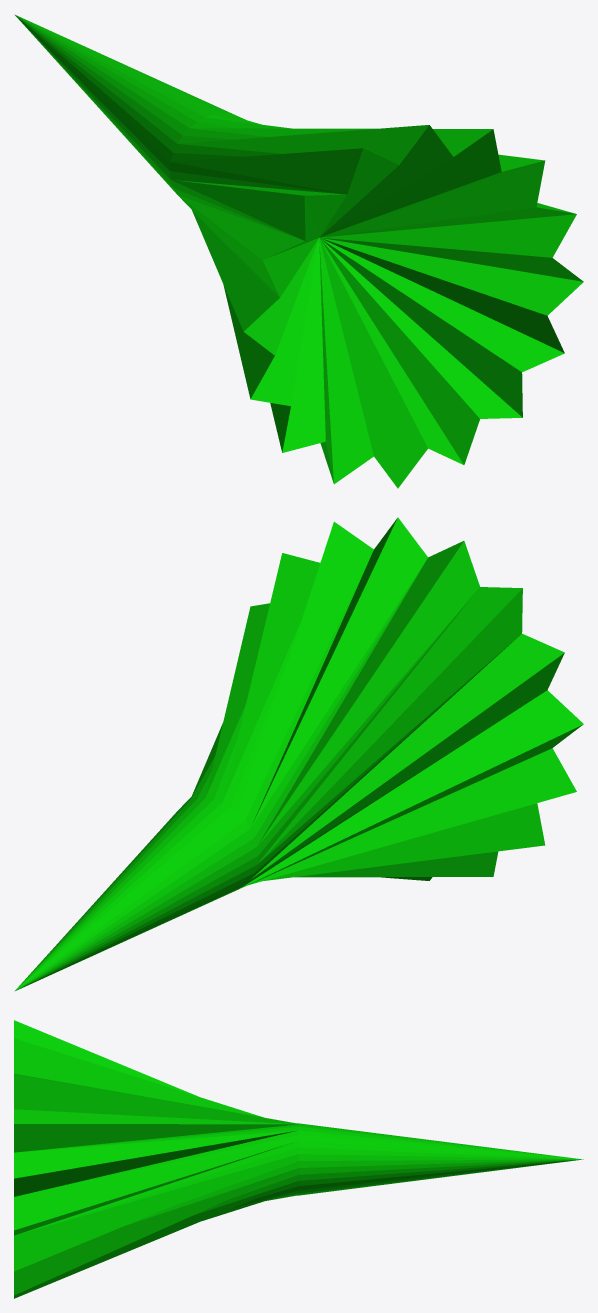
Rendered from enemyBullet.obj.
3 views of the same model, one above another, from view 1: azimuth 30°, elevation 25°; view 2: azimuth 150°, elevation 25°; view 3: azimuth 270°, elevation 25° (orthographic). The views are drawn at different scales.
Parts seen in each view (by area): view 1: bullet; view 2: bullet; view 3: bullet.
Part boxes in pixels (bbox=[...]): bullet: bbox=[14, 14, 583, 488]; bullet: bbox=[14, 517, 583, 991]; bullet: bbox=[14, 1020, 583, 1298].
Bounding box in the file's own units: 0.9832 × 0.9832 × 2.
